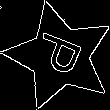P_E: (28, 30, 91, 83)
